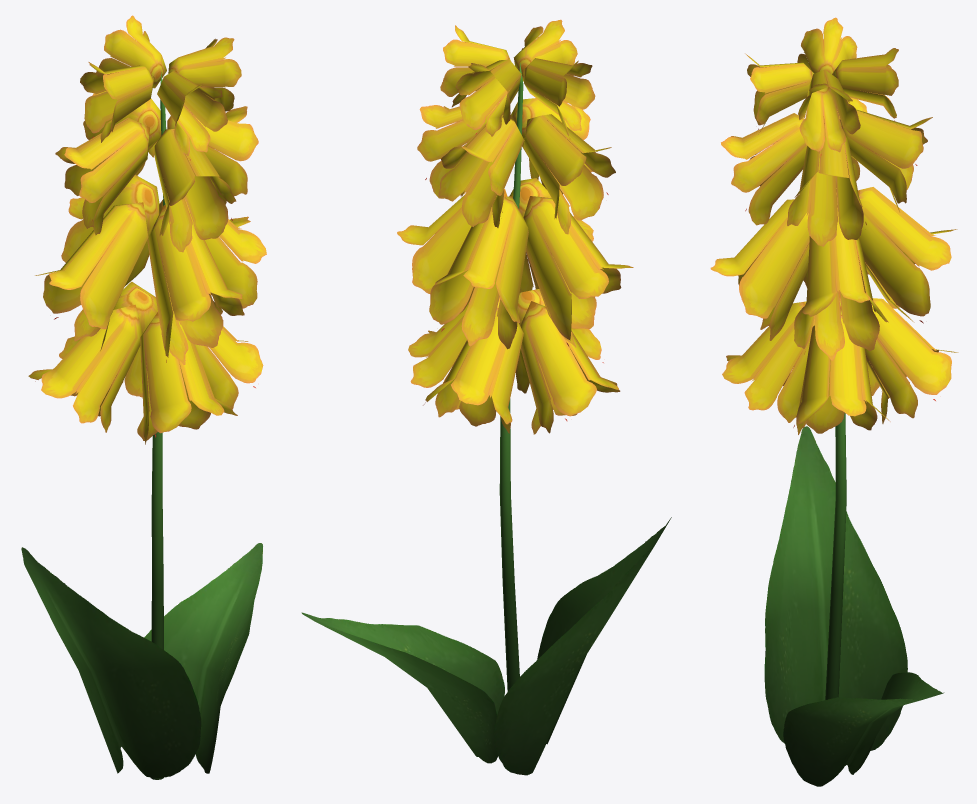
The model's file is Flower_4_Single.gltf.
3 renders of one model, left to right at view 1: azimuth 30°, elevation 25°; view 2: azimuth 150°, elevation 25°; view 3: azimuth 270°, elevation 25°, orthographic.
Parts seen in each view (by area): view 1: Flower_4_Single; view 2: Flower_4_Single; view 3: Flower_4_Single.
Boxes of the visible parts, box(x1,y1,x2,y2) form: Flower_4_Single: box(21, 15, 266, 779); Flower_4_Single: box(301, 19, 671, 775); Flower_4_Single: box(710, 17, 958, 786).
Size of the model in its own units: 1.07 by 2.42 by 0.7729.
Materials: 2 (2 with a texture image).
